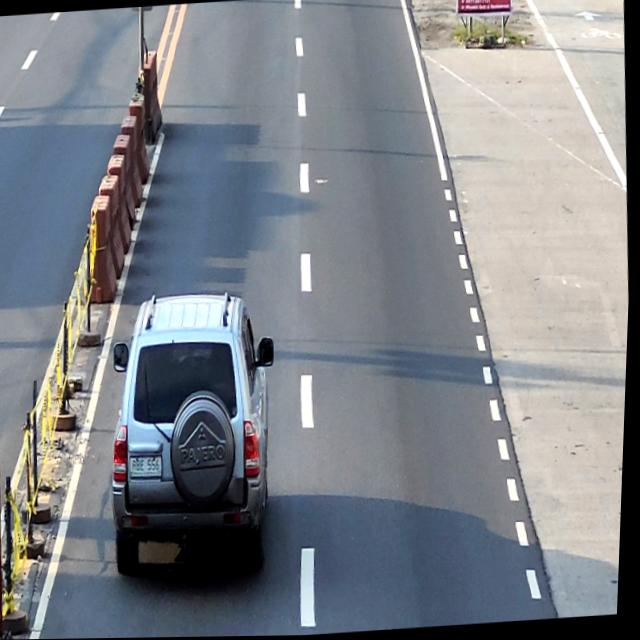Car: (105, 289, 291, 577)
License-Plate: (132, 456, 166, 479)
